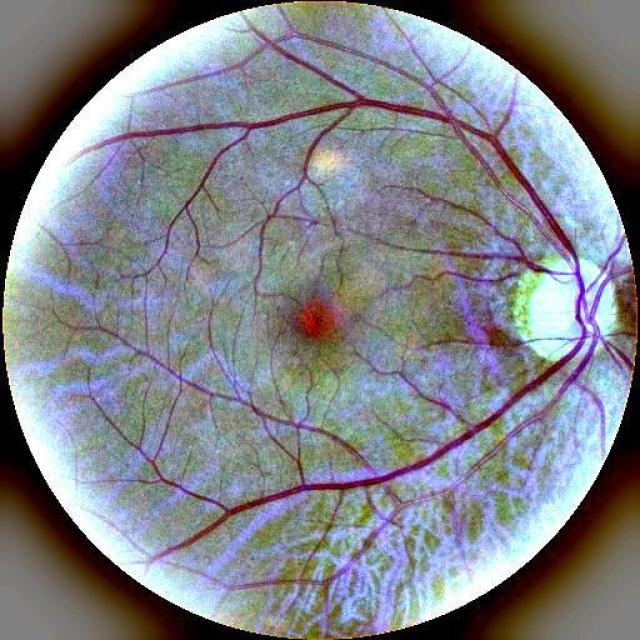Macula: (274, 290, 357, 355)
Nerves: (141, 85, 607, 323), (164, 326, 608, 554)
Optic Disk: (489, 232, 635, 407)
